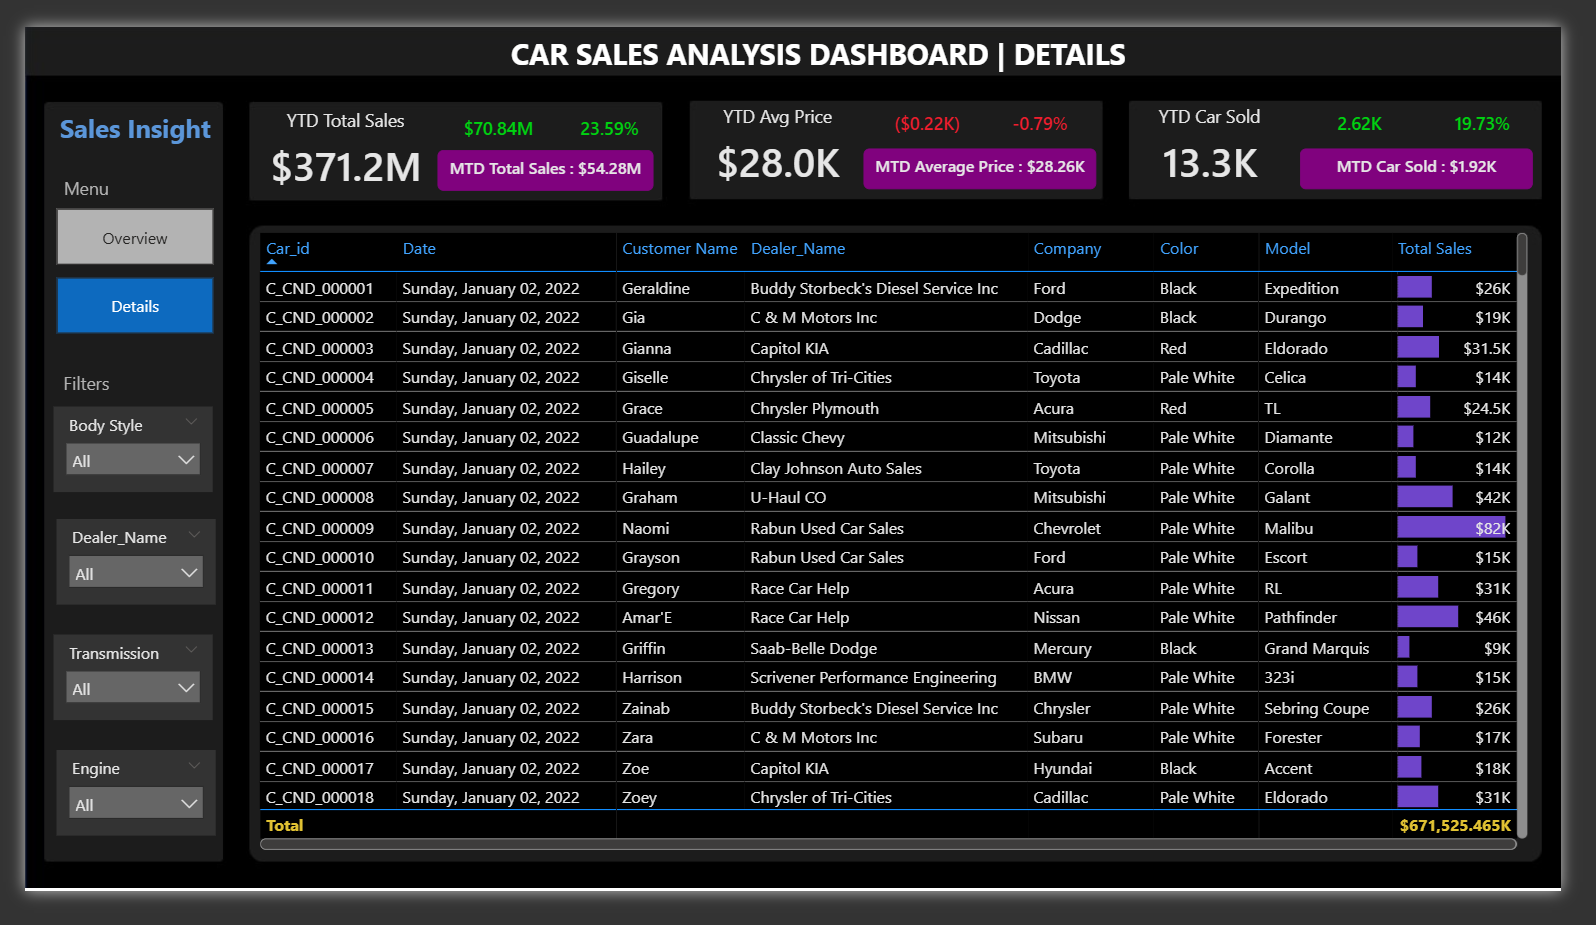

The page's visual inventory and layout, read from the dashboard file:
{"tool":"powerbi","page":{"name":"Details","canvas":[1280,720],"ordinal":1},"visuals":[{"type":"card","title":"YTD Total Sales","fields":{"Values":["car_data.YTD Total Sales"]},"box":[190,67.1,154.3,75.7],"z":0},{"type":"card","fields":{"Values":["car_data.Sales Difference"]},"box":[345.7,67.1,95.7,37.1],"z":1000},{"type":"card","fields":{"Values":["car_data.YoY Sales Growth"]},"box":[438.6,67.1,95.7,37.1],"z":2000},{"type":"card","fields":{"Values":["car_data.MTD KPI"]},"box":[344.3,102.9,180,34.3],"z":3000},{"type":"card","title":"YTD Avg Price","fields":{"Values":["car_data.YTD Avg Price"]},"box":[550,64.3,154.3,75.7],"z":4000},{"type":"card","fields":{"Values":["car_data.Avg Price Diff"]},"box":[704.3,64.3,95.7,37.1],"z":5000},{"type":"card","fields":{"Values":["car_data.YoY Avg Price Growth"]},"box":[805.7,64.3,78.6,37.1],"z":6000},{"type":"card","fields":{"Values":["car_data.MTD Avg Price KPI"]},"box":[698.6,101.4,194.3,34.3],"z":7000},{"type":"card","title":"YTD Car Sold","fields":{"Values":["car_data.YTD Car Sold"]},"box":[910,64.3,154.3,75.7],"z":8000},{"type":"card","fields":{"Values":["car_data.Cars Sold Diff"]},"box":[1064.3,64.3,95.7,37.1],"z":9000},{"type":"card","fields":{"Values":["car_data.YoY Car Sold Growth"]},"box":[1165.7,64.3,95.7,37.1],"z":10000},{"type":"card","fields":{"Values":["car_data.MTD Car Sold KPI"]},"box":[1062.9,101.4,194.3,34.3],"z":11000},{"type":"textbox","box":[367.1,0,587.1,51.4],"z":12000},{"type":"slicer","fields":{"Values":["car_data.Body Style"]},"box":[24.3,315.7,132.9,71.4],"z":13000},{"type":"slicer","fields":{"Values":["car_data.Dealer_Name"]},"box":[25.7,410,132.9,71.4],"z":14000},{"type":"slicer","fields":{"Values":["car_data.Transmission"]},"box":[24.3,505.7,132.9,71.4],"z":15000},{"type":"slicer","fields":{"Values":["car_data.Engine"]},"box":[25.7,602.9,132.9,71.4],"z":16000},{"type":"textbox","box":[17.1,281.4,67.1,32.9],"z":17000},{"type":"tableEx","fields":{"Values":["car_data.Car_id","car_data.Date","car_data.Customer Name","car_data.Dealer_Name","car_data.Company","car_data.Color","car_data.Model","car_data.Price (₱)"]},"box":[190,165.7,1067.1,524.3],"z":18000},{"type":"textbox","box":[12.9,64.3,158.6,42.9],"z":19000},{"type":"textbox","box":[17.1,118.6,67.1,32.9],"z":20000},{"type":"pageNavigator","box":[25.7,151.4,131.4,105.7],"z":21000}]}

Visuals, with their boxes in screenshot pixels (x1, y1, x2, y2), scaled from the page's 1280x720 canvas onto the 1596x925 screenshot:
"YTD Total Sales" card: pyautogui.locateOnScreen(237, 86, 429, 183)
card - car_data.Sales Difference: pyautogui.locateOnScreen(431, 86, 550, 134)
card - car_data.YoY Sales Growth: pyautogui.locateOnScreen(547, 86, 666, 134)
card - car_data.MTD KPI: pyautogui.locateOnScreen(429, 132, 654, 176)
"YTD Avg Price" card: pyautogui.locateOnScreen(686, 83, 878, 180)
card - car_data.Avg Price Diff: pyautogui.locateOnScreen(878, 83, 998, 130)
card - car_data.YoY Avg Price Growth: pyautogui.locateOnScreen(1005, 83, 1103, 130)
card - car_data.MTD Avg Price KPI: pyautogui.locateOnScreen(871, 130, 1113, 174)
"YTD Car Sold" card: pyautogui.locateOnScreen(1135, 83, 1327, 180)
card - car_data.Cars Sold Diff: pyautogui.locateOnScreen(1327, 83, 1446, 130)
card - car_data.YoY Car Sold Growth: pyautogui.locateOnScreen(1453, 83, 1573, 130)
card - car_data.MTD Car Sold KPI: pyautogui.locateOnScreen(1325, 130, 1568, 174)
textbox: pyautogui.locateOnScreen(458, 0, 1190, 66)
slicer - car_data.Body Style: pyautogui.locateOnScreen(30, 406, 196, 497)
slicer - car_data.Dealer_Name: pyautogui.locateOnScreen(32, 527, 198, 618)
slicer - car_data.Transmission: pyautogui.locateOnScreen(30, 650, 196, 741)
slicer - car_data.Engine: pyautogui.locateOnScreen(32, 775, 198, 866)
textbox: pyautogui.locateOnScreen(21, 362, 105, 404)
tableEx - car_data.Car_id x car_data.Date: pyautogui.locateOnScreen(237, 213, 1567, 886)
textbox: pyautogui.locateOnScreen(16, 83, 214, 138)
textbox: pyautogui.locateOnScreen(21, 152, 105, 195)
pageNavigator: pyautogui.locateOnScreen(32, 195, 196, 330)
